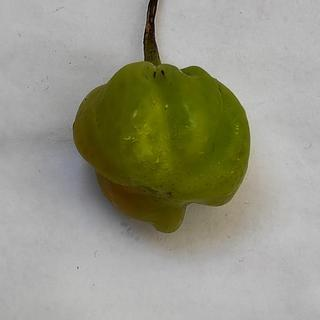Fly-bites: (159, 68, 166, 77), (152, 70, 158, 80)
